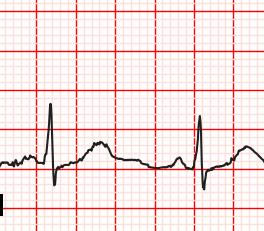LVH: (77, 138, 124, 171)
ST Depression: (190, 155, 212, 192), (42, 151, 61, 189)
